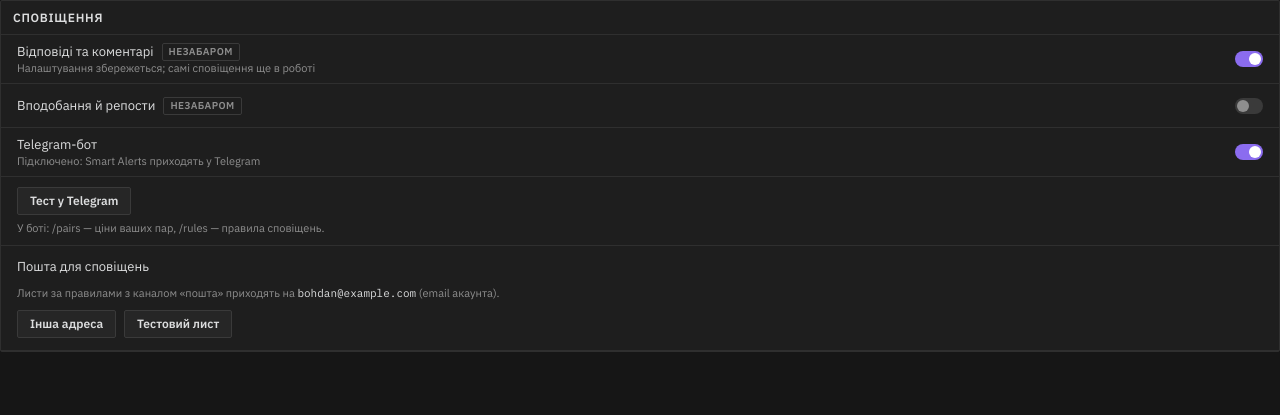
Test case: пошта для сповіщень › нова адреса стає активною лише після коду
Click the button "Інша адреса": (67, 324) left=17, top=310, right=116, bottom=338
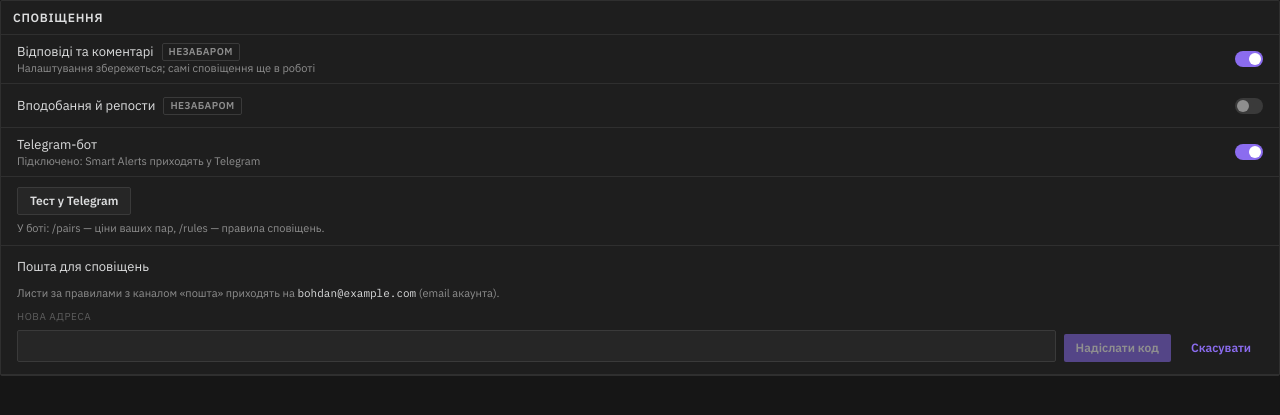
In the field labelled "Нова адреса": (536, 346) left=17, top=330, right=1056, bottom=362, type "alerts@example.org"
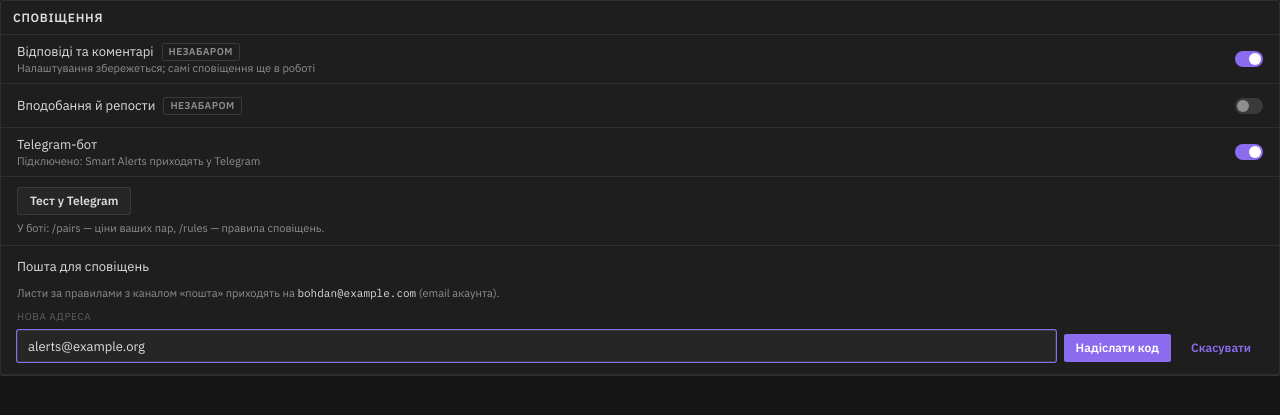
Click the button "Надіслати код": (1117, 348) left=1064, top=334, right=1171, bottom=362
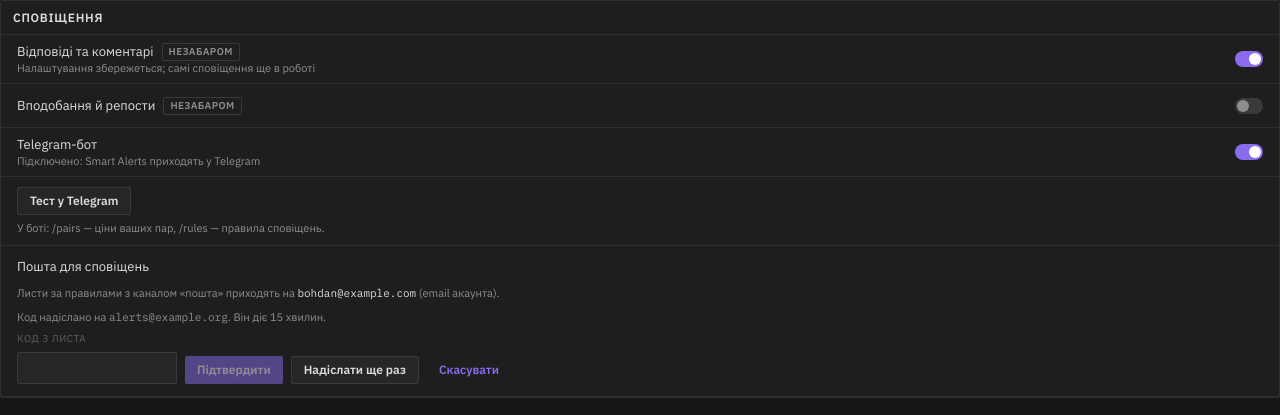
Result: the text "Код надіслано на alerts@example.org. Він діє 15 хвилин." is shown at left=17, top=310, right=326, bottom=324
In the field labelled "Код з листа": (97, 368) left=17, top=352, right=177, bottom=384, type "12a3456"
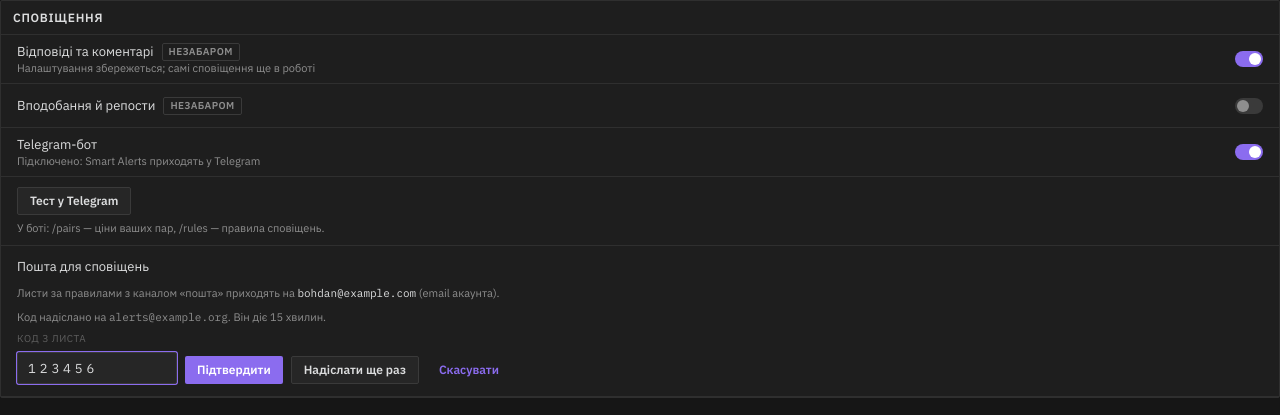
Click the button "Підтвердити": (234, 370) left=185, top=356, right=283, bottom=384
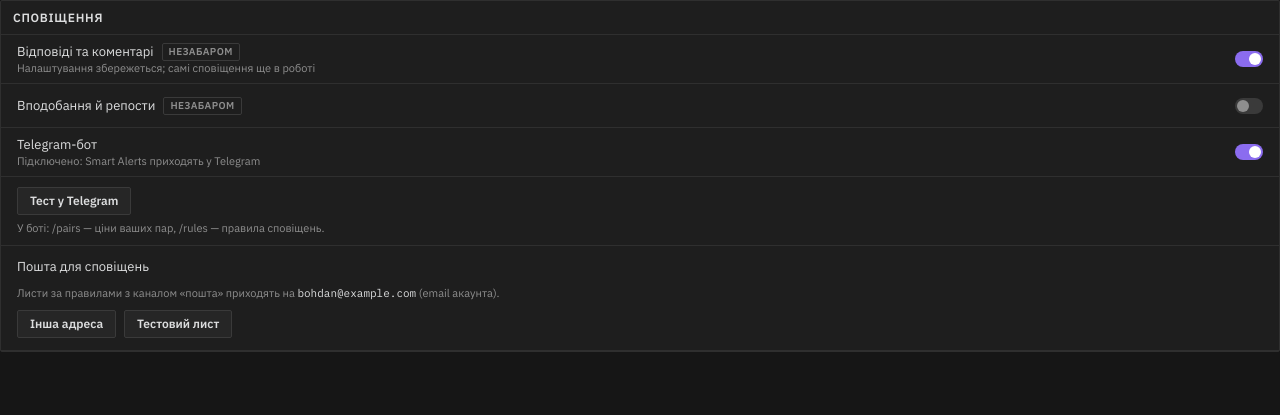
Result: the button "Інша адреса" is shown at left=17, top=310, right=116, bottom=338
